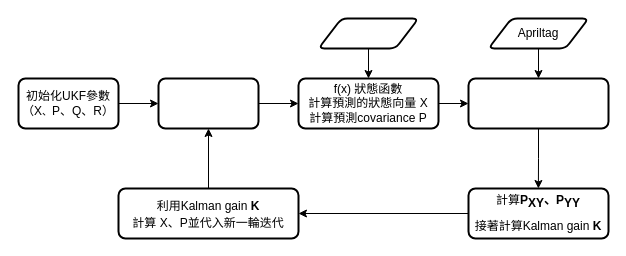
Image size: 626x256. Some labels were removed from this diagram. The box of each missing label's shape, as (x1, y1, x2, y2) in pixels:
h(x) tag觀測函數 得到用tag計算出來的位置: (467, 77, 609, 129)
IMU data: (317, 17, 419, 49)
生成sigma點: (157, 77, 259, 129)
